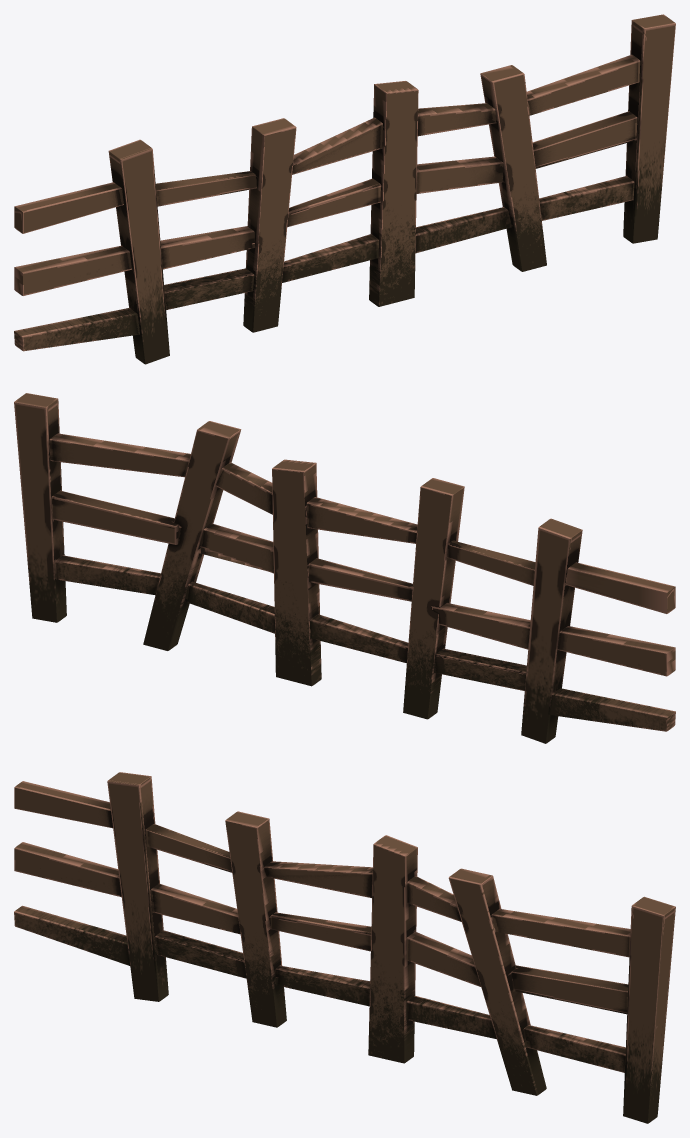
File: SM_Fence.FBX
3 renders of one model, top to bottom at view 1: azimuth 30°, elevation 25°; view 2: azimuth 150°, elevation 25°; view 3: azimuth 330°, elevation 25°, orthographic.
Visible parts, largest first — view 1: Fence003; view 2: Fence003; view 3: Fence003.
Boxes of the visible parts, x1=… form: Fence003: x1=14, y1=14, x2=675, y2=364; Fence003: x1=14, y1=393, x2=675, y2=743; Fence003: x1=14, y1=772, x2=675, y2=1123.
Size of the model in its own units: 330 by 104 by 27.97.
